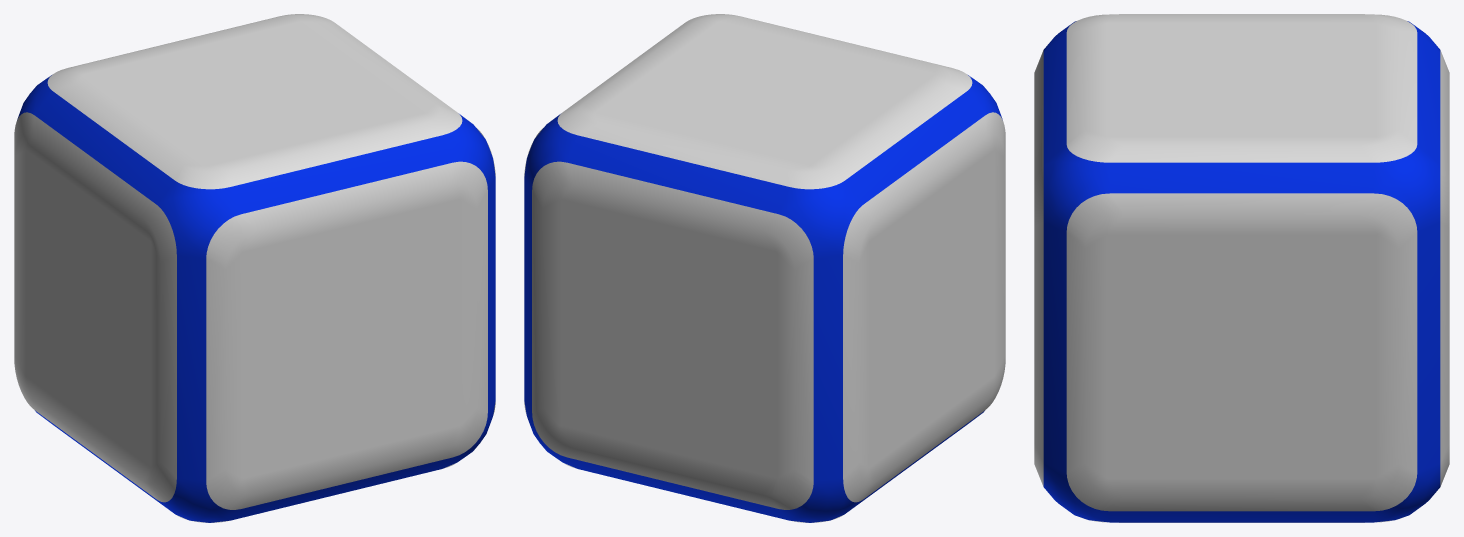
File: Dice.fbx
3 views of the same model, side by side, from view 1: azimuth 30°, elevation 25°; view 2: azimuth 150°, elevation 25°; view 3: azimuth 270°, elevation 25° (orthographic). The views are drawn at different scales.
Visible parts, largest first — view 1: Plane.001, Plane.004, Plane.000, Cube; view 2: Plane.003, Plane.004, Plane.000, Cube; view 3: Plane.002, Plane.000, Cube, Plane.003, Plane.001.
Boxes of the visible parts, <box> form: Plane.001: <box>206,161,487,509</box>; Plane.004: <box>14,112,176,502</box>; Plane.000: <box>47,14,462,189</box>; Cube: <box>17,75,495,522</box>; Plane.003: <box>532,161,813,509</box>; Plane.004: <box>843,112,1005,502</box>; Plane.000: <box>557,14,972,189</box>; Cube: <box>524,75,1002,522</box>; Plane.002: <box>1066,193,1417,511</box>; Plane.000: <box>1066,14,1417,162</box>; Cube: <box>1043,21,1440,522</box>; Plane.003: <box>1440,50,1449,486</box>; Plane.001: <box>1034,50,1043,486</box>.
Bounding box in the file's own units: 2.03 × 2.03 × 2.03.
